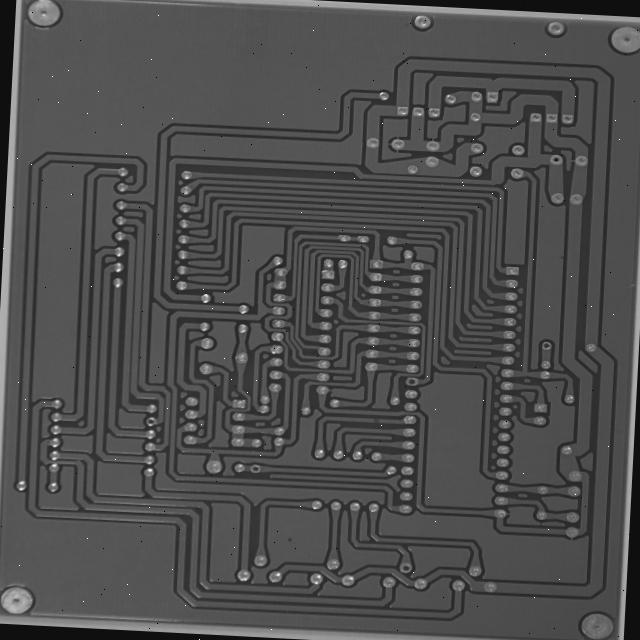missing_hole: (448, 556, 467, 572), (454, 355, 474, 370), (279, 448, 296, 465), (606, 318, 624, 331), (162, 400, 180, 411)
